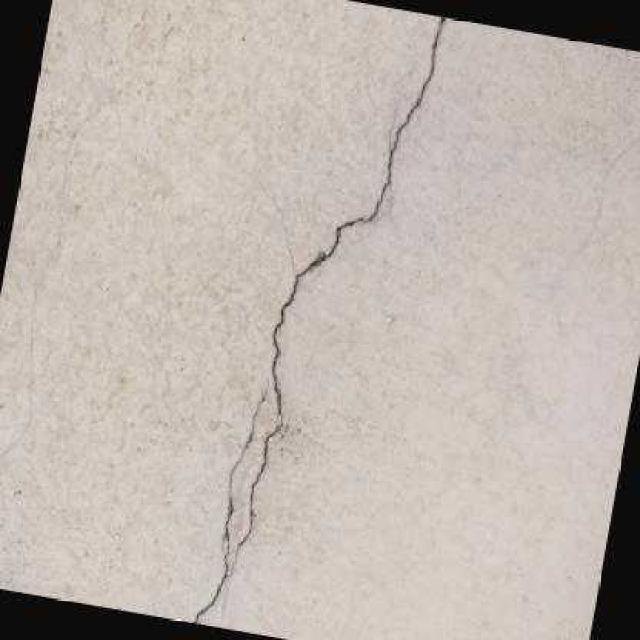D00: (190, 18, 445, 621)
